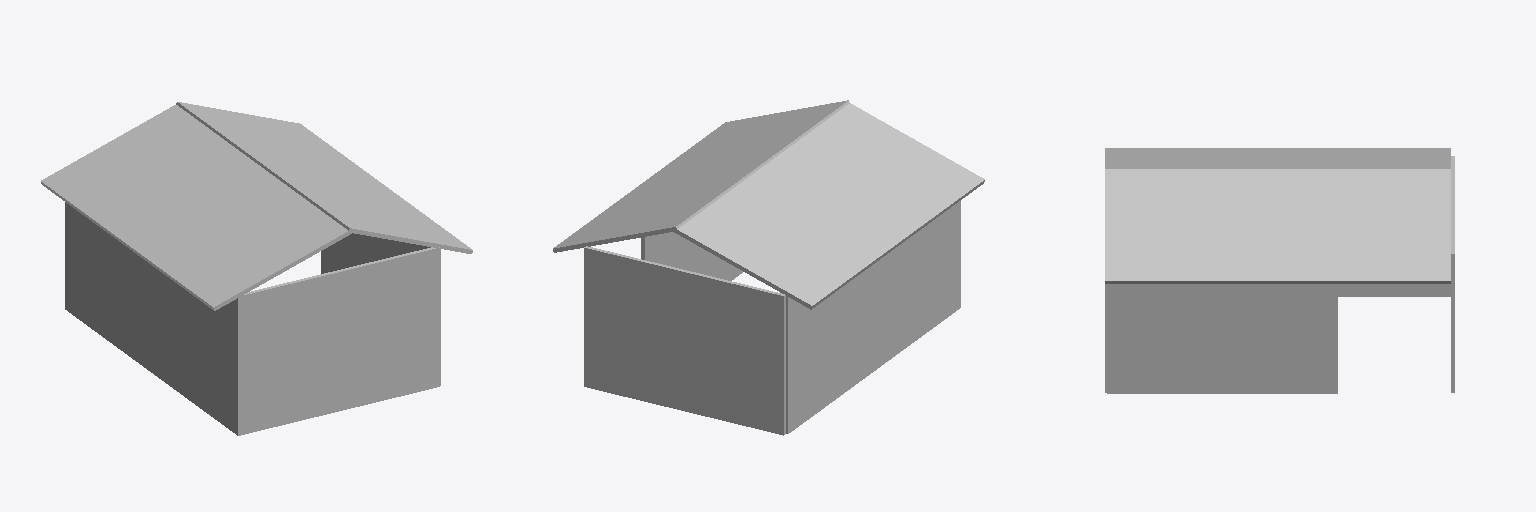
The model's file is house_split.obj.
3 views of the same model, side by side, from view 1: azimuth 30°, elevation 25°; view 2: azimuth 150°, elevation 25°; view 3: azimuth 270°, elevation 25° (orthographic).
Visible parts, largest first — view 1: Cube.004, Cube, Cube.003, Cube.001; view 2: Cube.004, Cube.002, Cube.003, Cube.001; view 3: Cube.004, Cube.001, Cube.003, Cube.002.
Boxes of the visible parts, x1,y1,x2,y2 form: Cube.004: [41, 102, 472, 310]; Cube: [240, 247, 439, 435]; Cube.003: [65, 202, 239, 435]; Cube.001: [321, 233, 440, 385]; Cube.004: [553, 100, 984, 309]; Cube.002: [584, 246, 785, 435]; Cube.003: [786, 201, 960, 433]; Cube.001: [641, 232, 742, 280]; Cube.004: [1105, 148, 1450, 283]; Cube.001: [1107, 284, 1337, 393]; Cube.003: [1338, 284, 1450, 296]; Cube.002: [1451, 156, 1454, 392].
Size of the model in its own units: 7.81 by 5.18 by 9.12.